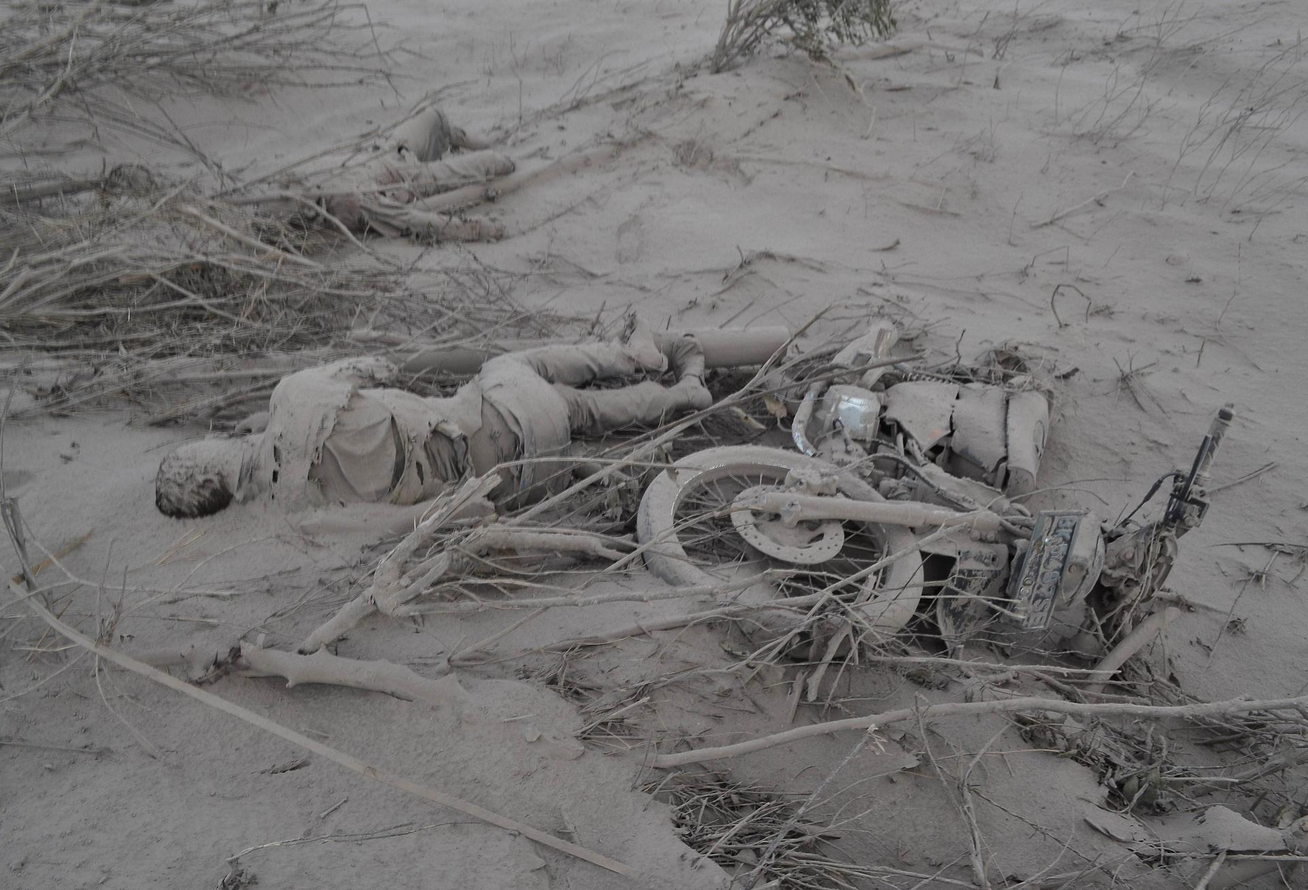Korban: (156, 311, 711, 518)
